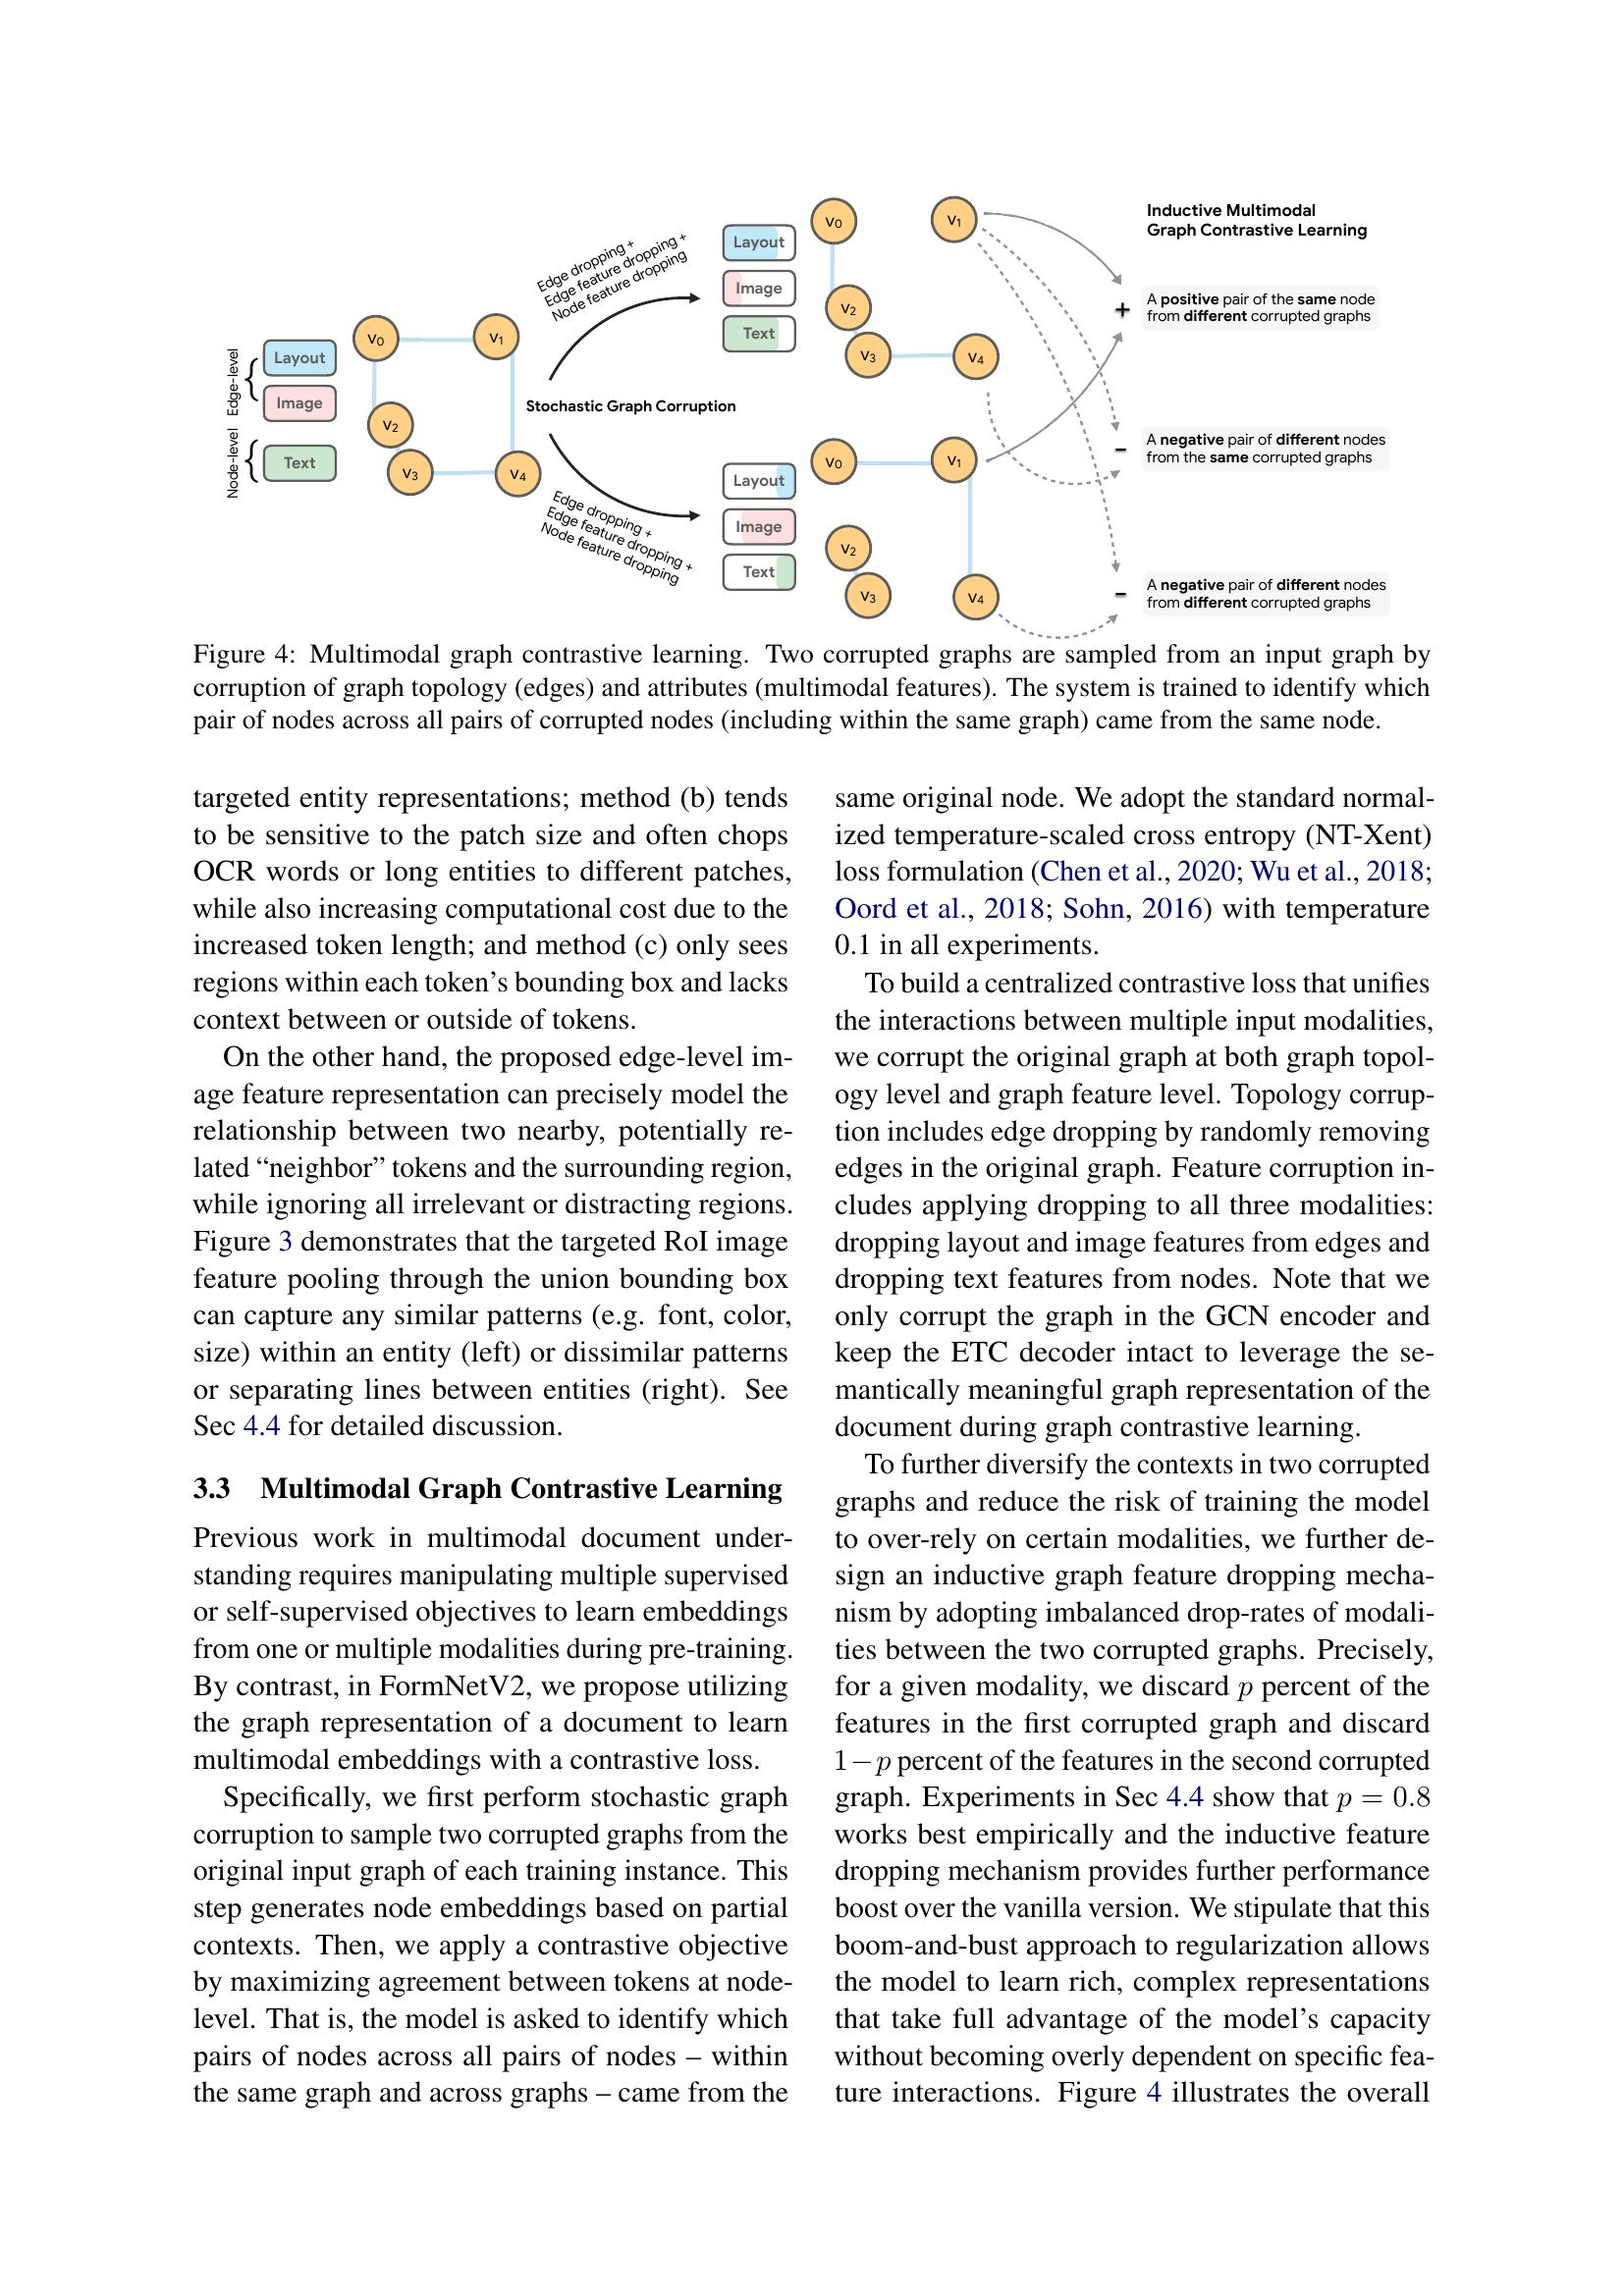figure: (185, 188, 1438, 747)
text: (178, 775, 801, 1453), (823, 1448, 1443, 2127), (817, 776, 1441, 1448), (178, 1465, 801, 2122)
